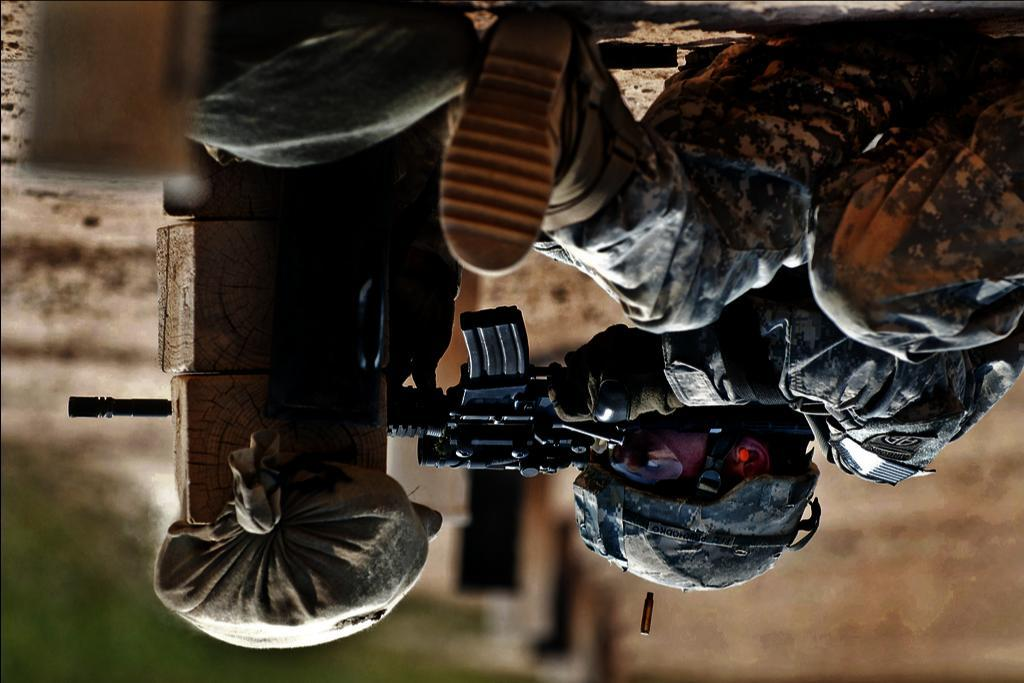gun: (68, 321, 815, 477)
